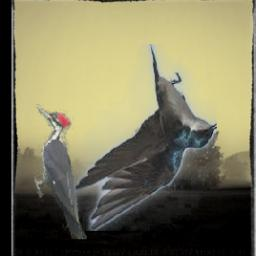Swallow: (74, 44, 217, 231)
Woodpecker: (33, 105, 86, 240)
